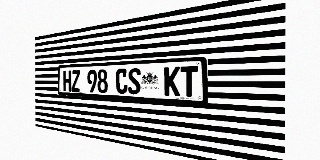8: (97, 69, 108, 93)
9: (87, 69, 97, 93)
C: (116, 68, 127, 94)
H: (63, 70, 71, 91)
K: (164, 66, 180, 96)
S: (128, 68, 141, 95)
T: (181, 66, 198, 97)
Z: (71, 70, 80, 92)
